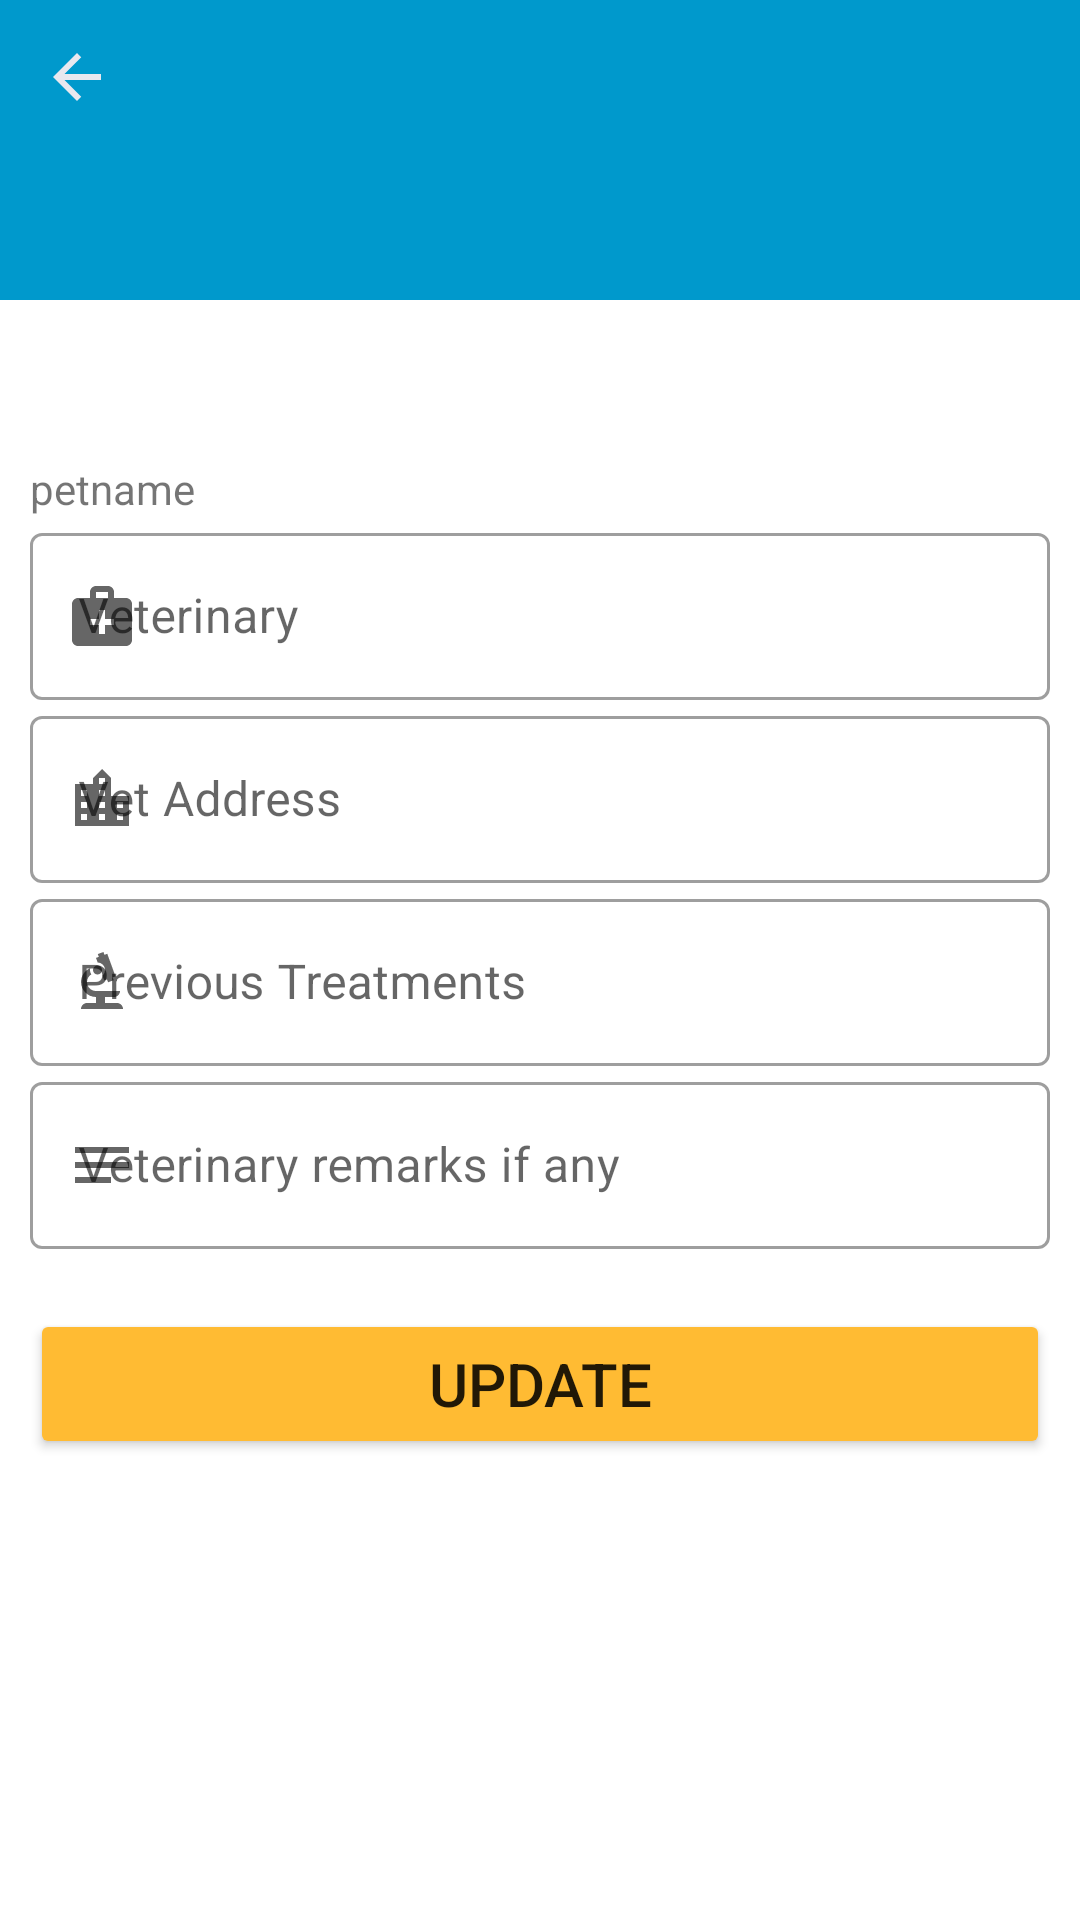

Where to tap for icons on this 1080px x 1920px app screen, as [x,y]:
arrow back: [77,77]
